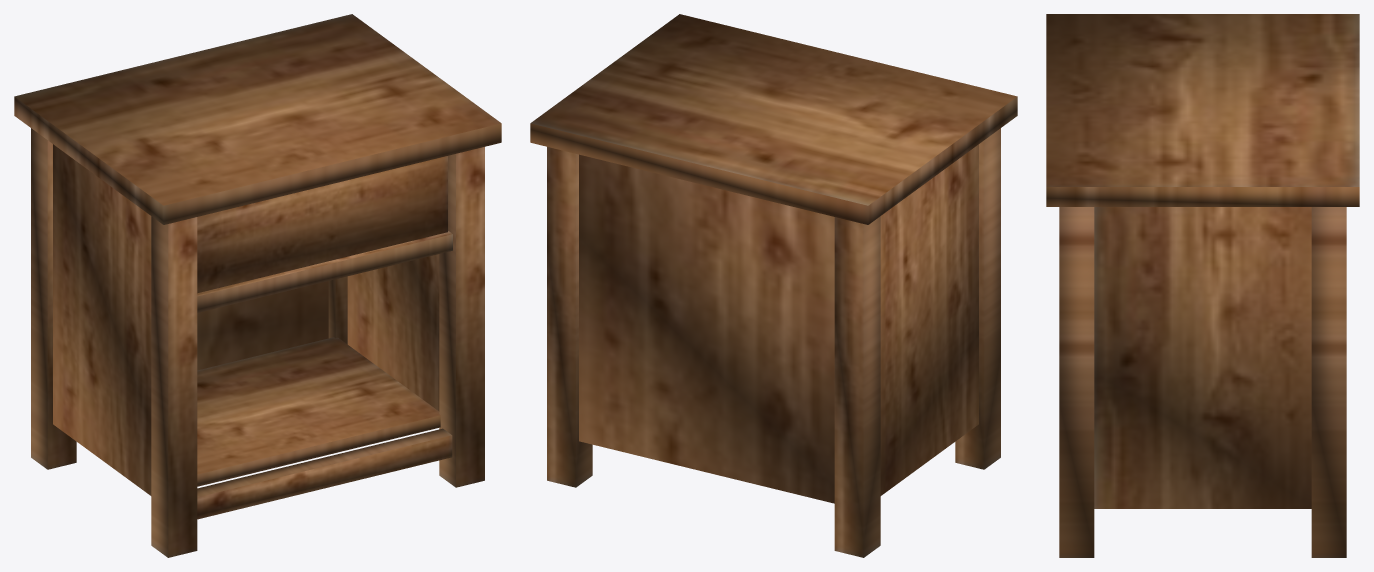
Rendered from mejakecil.glb.
The picture shows the model from 3 angles, left to right: view 1: azimuth 30°, elevation 25°; view 2: azimuth 150°, elevation 25°; view 3: azimuth 270°, elevation 25°; orthographic projection. The views are drawn at different scales.
Parts seen in each view (by area): view 1: Table_Top, Side_Panel_L, Bottom_Shelf, Drawer_Front, Leg_FL, Leg_FR, Side_Panel_R, Front_Bottom_Rail, Leg_BL, Back_Panel.001, Mid_Separator_Rail, Leg_BR; view 2: Back_Panel.001, Table_Top, Side_Panel_L, Leg_BL, Leg_BR, Leg_FL; view 3: Side_Panel_R, Table_Top, Leg_FR, Leg_BR.
Part boxes in pixels (x1,y1,x2,y2): Table_Top: (14, 14, 501, 224); Side_Panel_L: (53, 144, 151, 495); Bottom_Shelf: (197, 337, 440, 486); Drawer_Front: (197, 156, 447, 293); Leg_FL: (151, 216, 197, 557); Leg_FR: (439, 147, 484, 487); Side_Panel_R: (347, 254, 439, 411); Front_Bottom_Rail: (197, 428, 452, 519); Leg_BL: (31, 128, 76, 469); Back_Panel.001: (197, 281, 328, 370); Mid_Separator_Rail: (197, 231, 452, 312); Leg_BR: (328, 276, 347, 344); Back_Panel.001: (579, 154, 834, 503); Table_Top: (530, 14, 1017, 224); Side_Panel_L: (880, 144, 978, 495); Leg_BL: (834, 216, 880, 557); Leg_BR: (547, 147, 592, 487); Leg_FL: (955, 128, 1000, 469); Side_Panel_R: (1094, 207, 1311, 508); Table_Top: (1046, 14, 1359, 206); Leg_FR: (1059, 207, 1094, 557); Leg_BR: (1311, 207, 1346, 557).
Bounding box in the file's own units: 1.5 × 1.52 × 1.15.
Materials: 1 (1 with a texture image).
